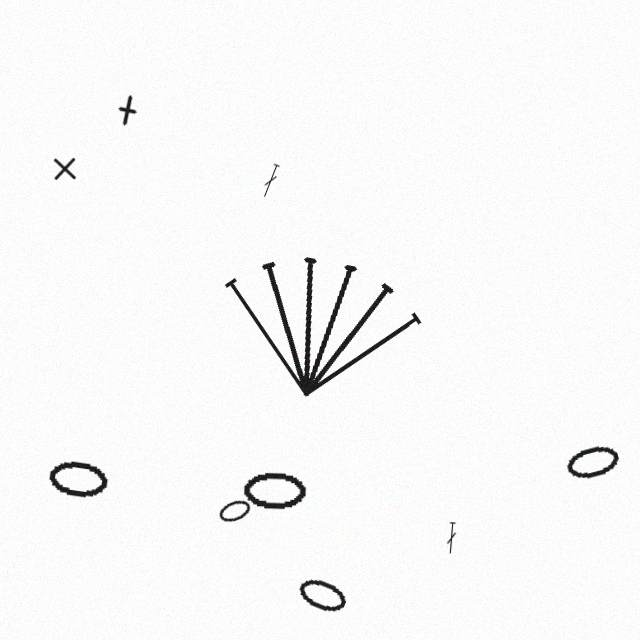chain: (46, 457, 111, 502), (242, 471, 308, 511), (563, 441, 622, 484), (294, 573, 350, 618), (216, 496, 254, 526)
double: (259, 163, 282, 199), (445, 522, 458, 554)
fan: (201, 222, 439, 417)
single: (108, 91, 147, 130), (49, 153, 80, 184)
